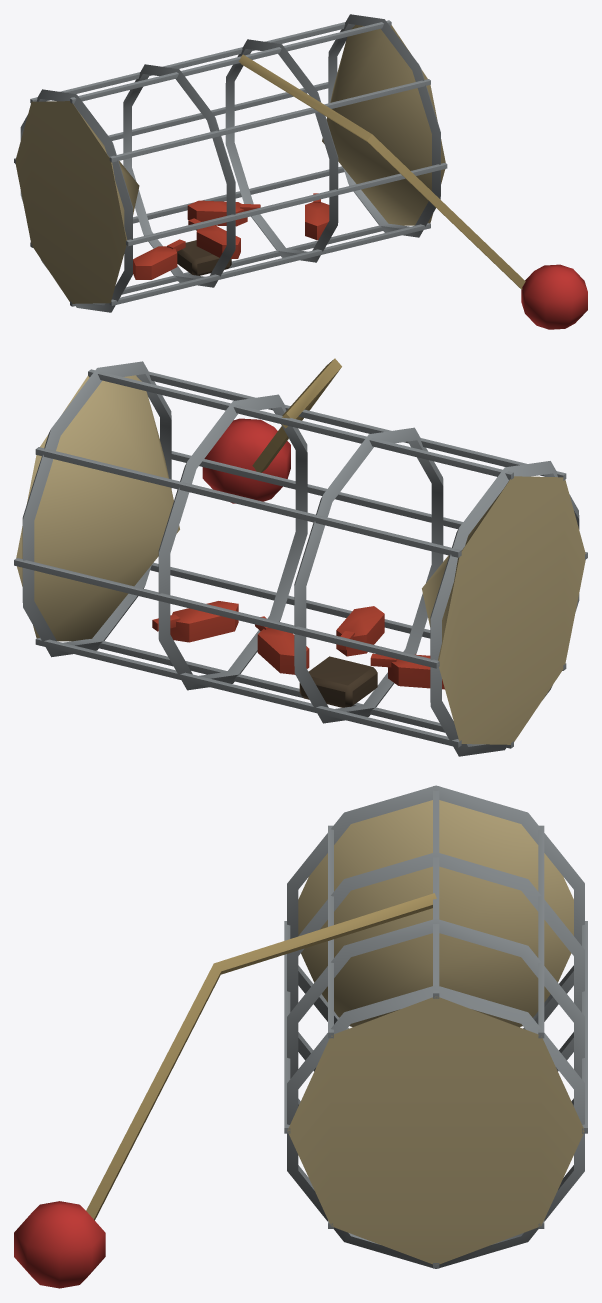
The model's file is pot_crawdad.glb.
The picture shows the model from 3 angles, top to bottom: view 1: azimuth 30°, elevation 25°; view 2: azimuth 150°, elevation 25°; view 3: azimuth 270°, elevation 25°; orthographic projection. The views are drawn at different scales.
Visible parts, largest first — view 1: pot_crawdad, full; view 2: pot_crawdad, full; view 3: pot_crawdad.
Part boxes in pixels (<box>): pot_crawdad: <box>14,14,587,329</box>; full: <box>133,193,329,279</box>; pot_crawdad: <box>14,358,587,756</box>; full: <box>152,601,444,689</box>; pot_crawdad: <box>14,785,587,1288</box>.
Size of the model in its own units: 0.6523 by 0.358 by 0.6558.
